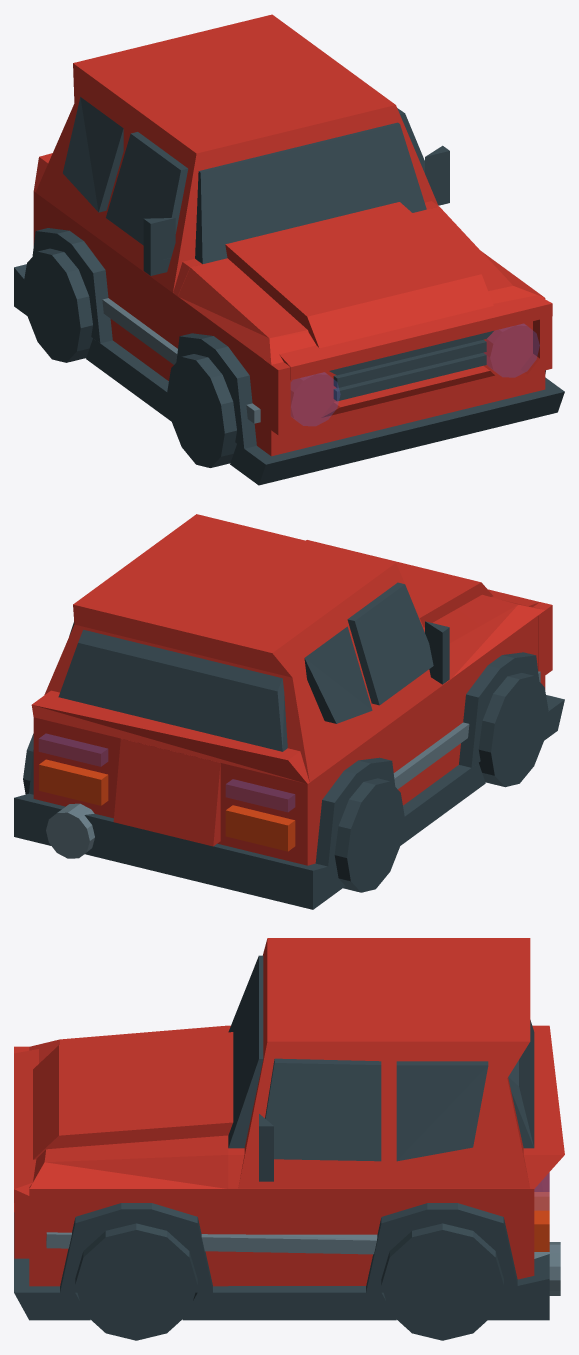
The model's file is carrinho.gltf.
3 views of the same model, one above another, from view 1: azimuth 30°, elevation 25°; view 2: azimuth 150°, elevation 25°; view 3: azimuth 270°, elevation 25° (orthographic). The views are drawn at different scales.
Parts seen in each view (by area): view 1: node_MeshObject-971907072-PolyPaper21, node_MeshObject-399827968-PolyGlass24; view 2: node_MeshObject-971907072-PolyPaper21, node_MeshObject-399827968-PolyGlass24; view 3: node_MeshObject-971907072-PolyPaper21.
Part boxes in pixels (x1=…): node_MeshObject-971907072-PolyPaper21: x1=14, y1=14, x2=564, y2=485; node_MeshObject-399827968-PolyGlass24: x1=291, y1=324, x2=539, y2=425; node_MeshObject-971907072-PolyPaper21: x1=14, y1=514, x2=564, y2=909; node_MeshObject-399827968-PolyGlass24: x1=39, y1=734, x2=294, y2=811; node_MeshObject-971907072-PolyPaper21: x1=14, y1=938, x2=564, y2=1340.
Size of the model in its own units: 0.2601 by 0.1924 by 0.3601.
